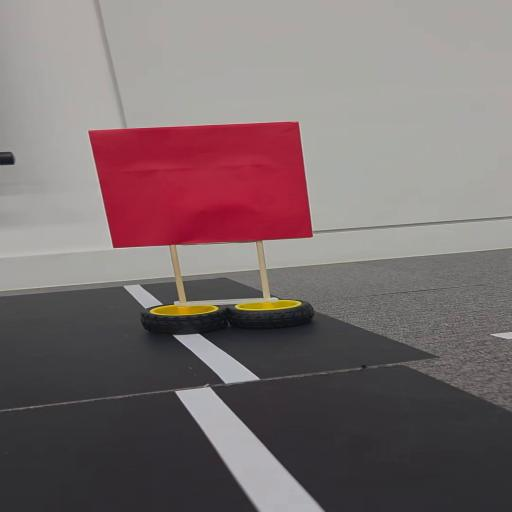Sign_A: (74, 114, 346, 334)
